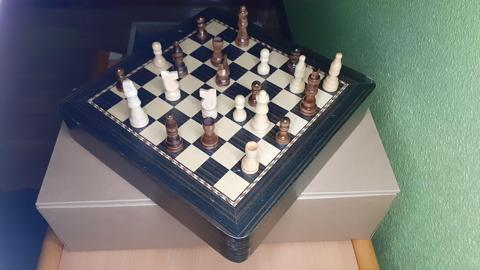xcorner: (199, 41, 205, 47), (185, 51, 191, 57), (138, 84, 144, 90), (154, 94, 160, 100), (202, 80, 208, 86), (187, 92, 193, 98), (153, 118, 159, 124), (260, 56, 266, 62), (219, 90, 225, 96), (204, 102, 210, 108), (295, 74, 301, 80), (288, 108, 294, 114), (274, 122, 280, 128), (260, 136, 266, 142), (155, 73, 161, 78), (121, 97, 127, 102), (228, 40, 234, 45), (215, 49, 220, 55), (186, 71, 192, 76), (171, 82, 176, 88), (137, 107, 142, 113), (231, 58, 236, 64), (217, 69, 223, 74), (247, 67, 253, 72), (234, 78, 239, 84), (171, 130, 176, 136), (277, 65, 283, 70), (265, 76, 270, 82), (251, 88, 257, 93), (237, 100, 242, 106), (222, 113, 227, 119), (206, 127, 211, 133), (189, 142, 194, 148), (282, 86, 288, 91), (269, 98, 275, 103), (255, 111, 261, 116), (240, 125, 246, 130), (225, 139, 230, 145), (314, 83, 319, 89), (301, 96, 307, 101), (244, 152, 250, 157), (228, 168, 233, 174), (213, 32, 218, 37), (171, 62, 176, 67), (201, 60, 206, 65), (244, 48, 249, 53), (171, 105, 176, 110), (188, 116, 193, 121), (208, 155, 213, 160)
